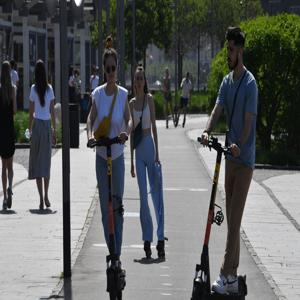human on a scooter: (190, 26, 259, 300), (85, 36, 135, 300)
